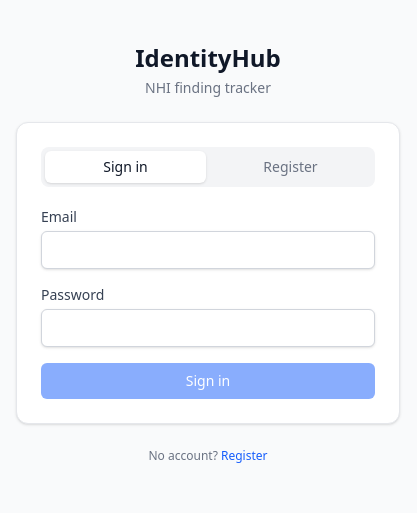
Scenario: LoginPage — mode toggle › clears a previous error banner when switching modes
Type "a@b.com" into the field labelled "Email" at (208, 250), box [41,231,375,269]
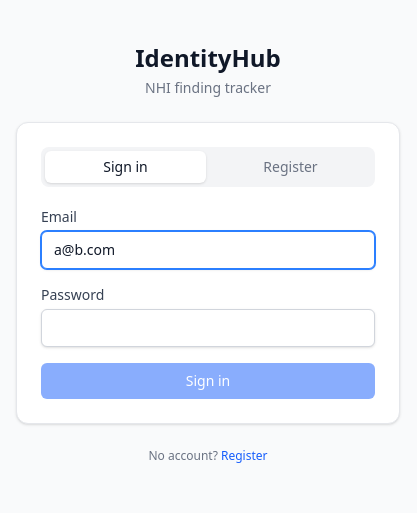
Type "wrongpw" into the password field labelled "Password" at (208, 328), box [41,309,375,347]
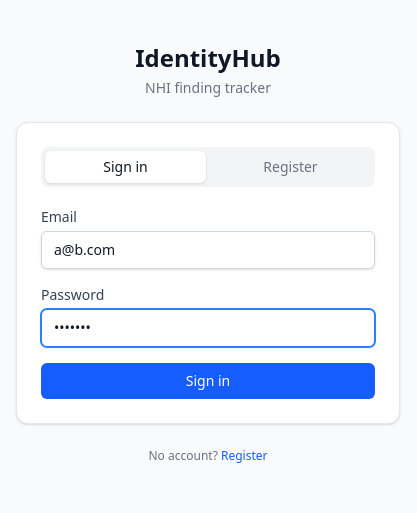
Click the button "Sign in" below "Password" at (208, 381), box [41,363,375,399]
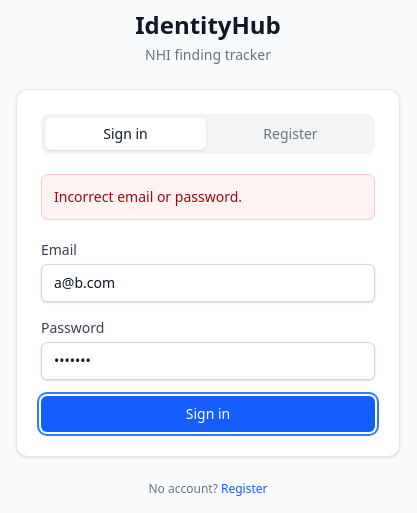
Expected: the text "Incorrect email or password." is shown, [54,187,242,206]
Note: Switch mode — error should clear
Click the button "Register" at (290, 134), box [210,118,371,150]
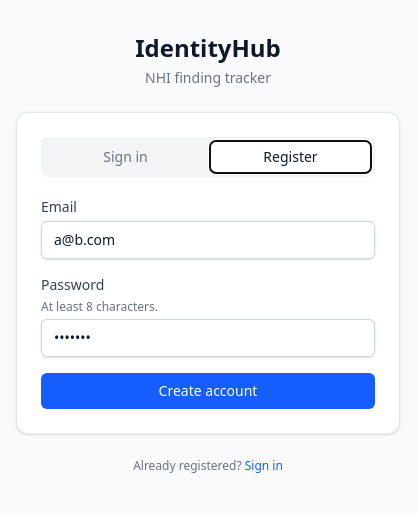
Expected: the text "Incorrect email or password." is gone
